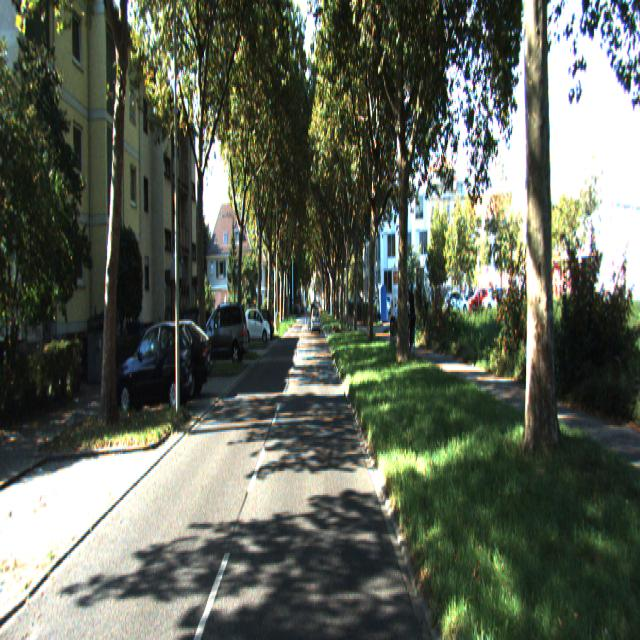Car: (115, 319, 197, 418), (198, 296, 249, 368), (244, 305, 272, 342)
